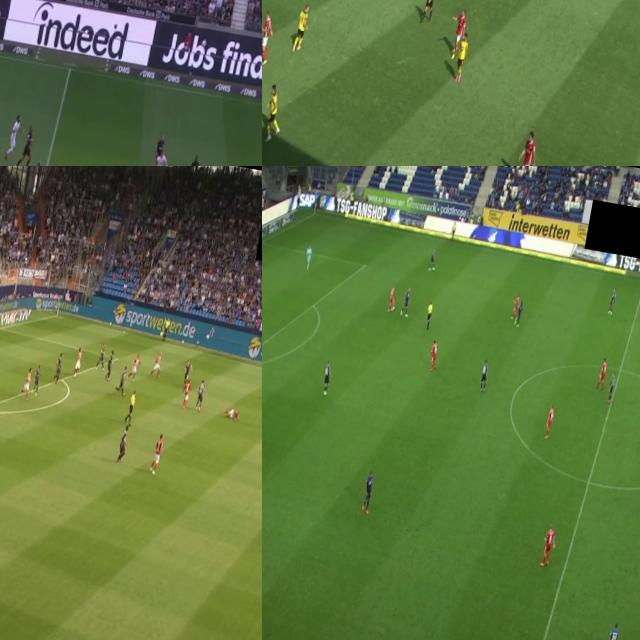ball: (204, 331, 210, 342)
player: (262, 78, 286, 138), (511, 125, 539, 166), (449, 4, 468, 59), (452, 28, 471, 81), (291, 0, 310, 53), (21, 116, 39, 166), (6, 112, 24, 160), (538, 522, 558, 564), (262, 9, 277, 64), (147, 430, 164, 475), (360, 468, 377, 511), (148, 135, 171, 166), (126, 349, 144, 385), (116, 423, 130, 468), (594, 354, 609, 395), (51, 348, 66, 388), (300, 236, 316, 272), (320, 360, 336, 394), (116, 362, 130, 400), (476, 358, 491, 393), (604, 369, 618, 406), (400, 283, 414, 320), (20, 365, 34, 400), (600, 617, 621, 640), (150, 348, 164, 382), (542, 402, 556, 436), (426, 337, 441, 368), (384, 282, 398, 315), (194, 377, 207, 412), (180, 378, 192, 412), (72, 344, 84, 378), (606, 286, 618, 319), (149, 148, 170, 166), (509, 291, 521, 322), (181, 359, 192, 390), (32, 363, 42, 397), (514, 296, 524, 330), (426, 246, 438, 274), (181, 152, 204, 166), (105, 349, 115, 379), (98, 340, 107, 368), (221, 409, 240, 419)
